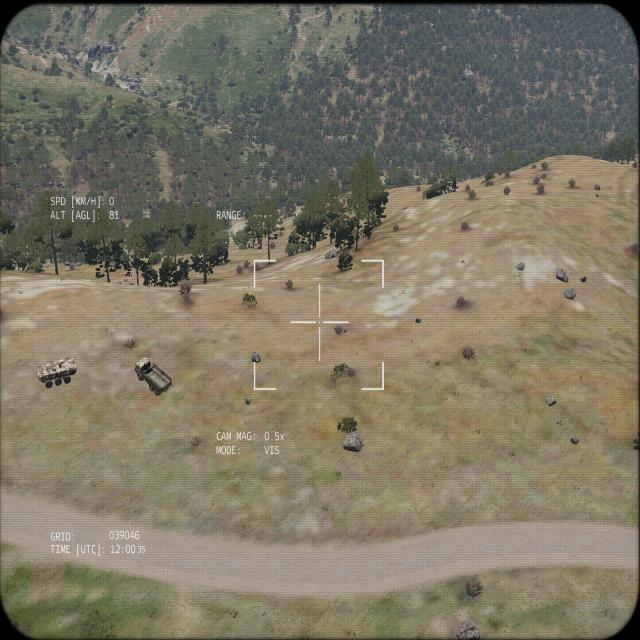apc: (36, 356, 76, 388)
truck: (133, 356, 173, 396)
